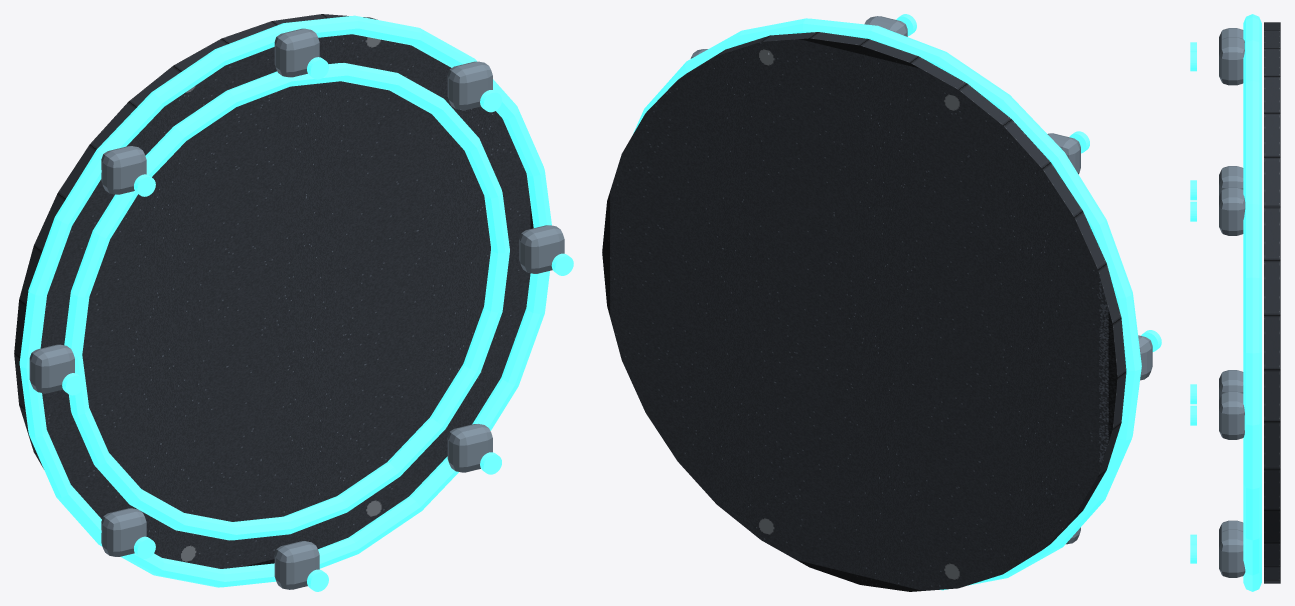
Rendered from gate-high.glb.
The picture shows the model from 3 angles, left to right: view 1: azimuth 30°, elevation 25°; view 2: azimuth 150°, elevation 25°; view 3: azimuth 270°, elevation 25°; orthographic projection. The views are drawn at different scales.
Visible parts, largest first — view 1: gate-root / Ceramic graphite.012, gate-root / Cyan instrumentation.012, gate-root / Titanium edges.012; view 2: gate-root / Ceramic graphite.012, gate-root / Cyan instrumentation.012, gate-root / Titanium edges.012; view 3: gate-root / Cyan instrumentation.012, gate-root / Ceramic graphite.012, gate-root / Titanium edges.012.
Boxes of the visible parts, <box> form: gate-root / Ceramic graphite.012: <box>14,14,533,568</box>; gate-root / Cyan instrumentation.012: <box>19,15,573,591</box>; gate-root / Titanium edges.012: <box>29,28,564,589</box>; gate-root / Ceramic graphite.012: <box>602,32,1126,591</box>; gate-root / Cyan instrumentation.012: <box>633,14,1161,590</box>; gate-root / Titanium edges.012: <box>690,16,1152,544</box>; gate-root / Cyan instrumentation.012: <box>1190,14,1261,591</box>; gate-root / Ceramic graphite.012: <box>1264,22,1280,583</box>; gate-root / Titanium edges.012: <box>1219,28,1245,577</box>.
Size of the model in its own units: 2.07 by 2.07 by 0.322.
Materials: 3 (1 with a texture image).
